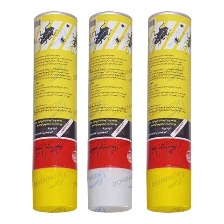aerosol_cans: (85, 8, 137, 215), (143, 7, 194, 217), (30, 9, 80, 216)
